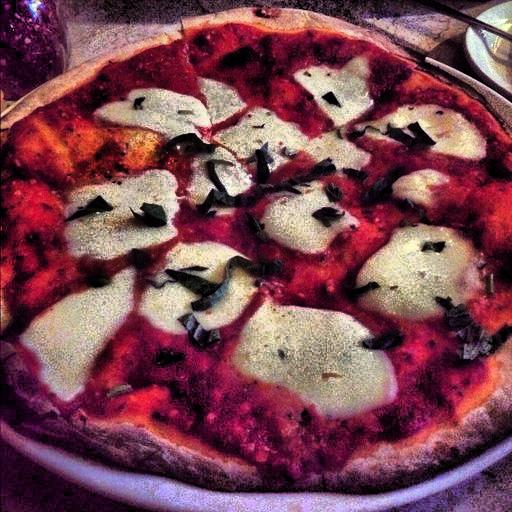pizza: (3, 25, 512, 512)
